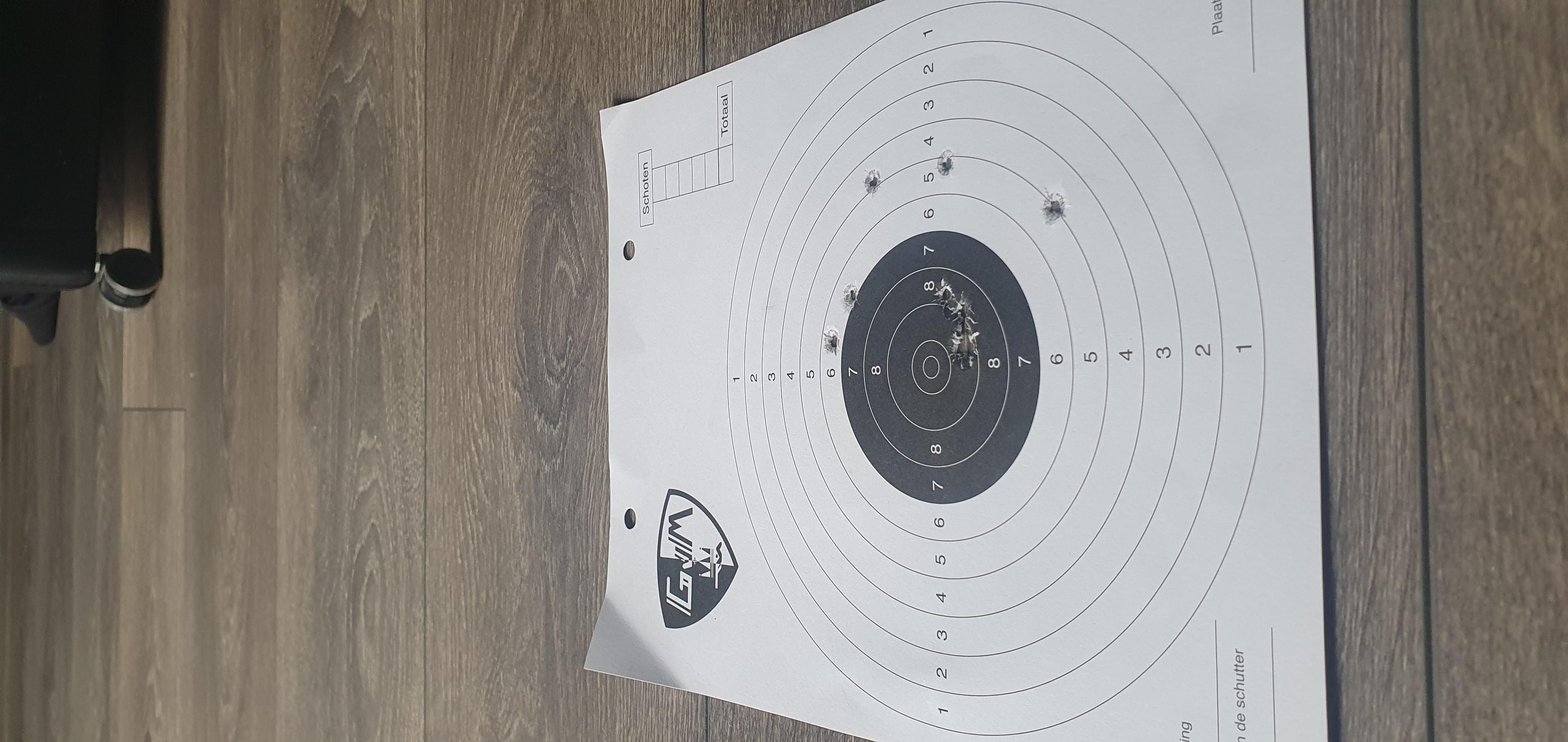hole: (1094, 492, 1171, 507), (1152, 406, 1220, 419), (1197, 440, 1256, 453), (816, 389, 878, 399), (915, 397, 968, 407), (924, 443, 972, 452), (890, 452, 938, 461), (803, 449, 863, 456), (806, 457, 866, 464)
